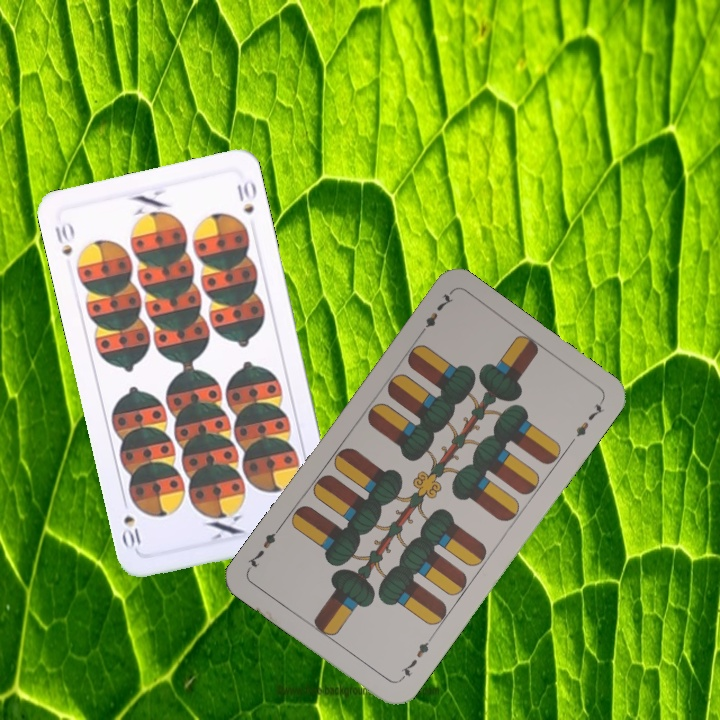E7: (414, 288, 456, 339), (395, 637, 432, 683)
S10: (51, 219, 77, 258)
